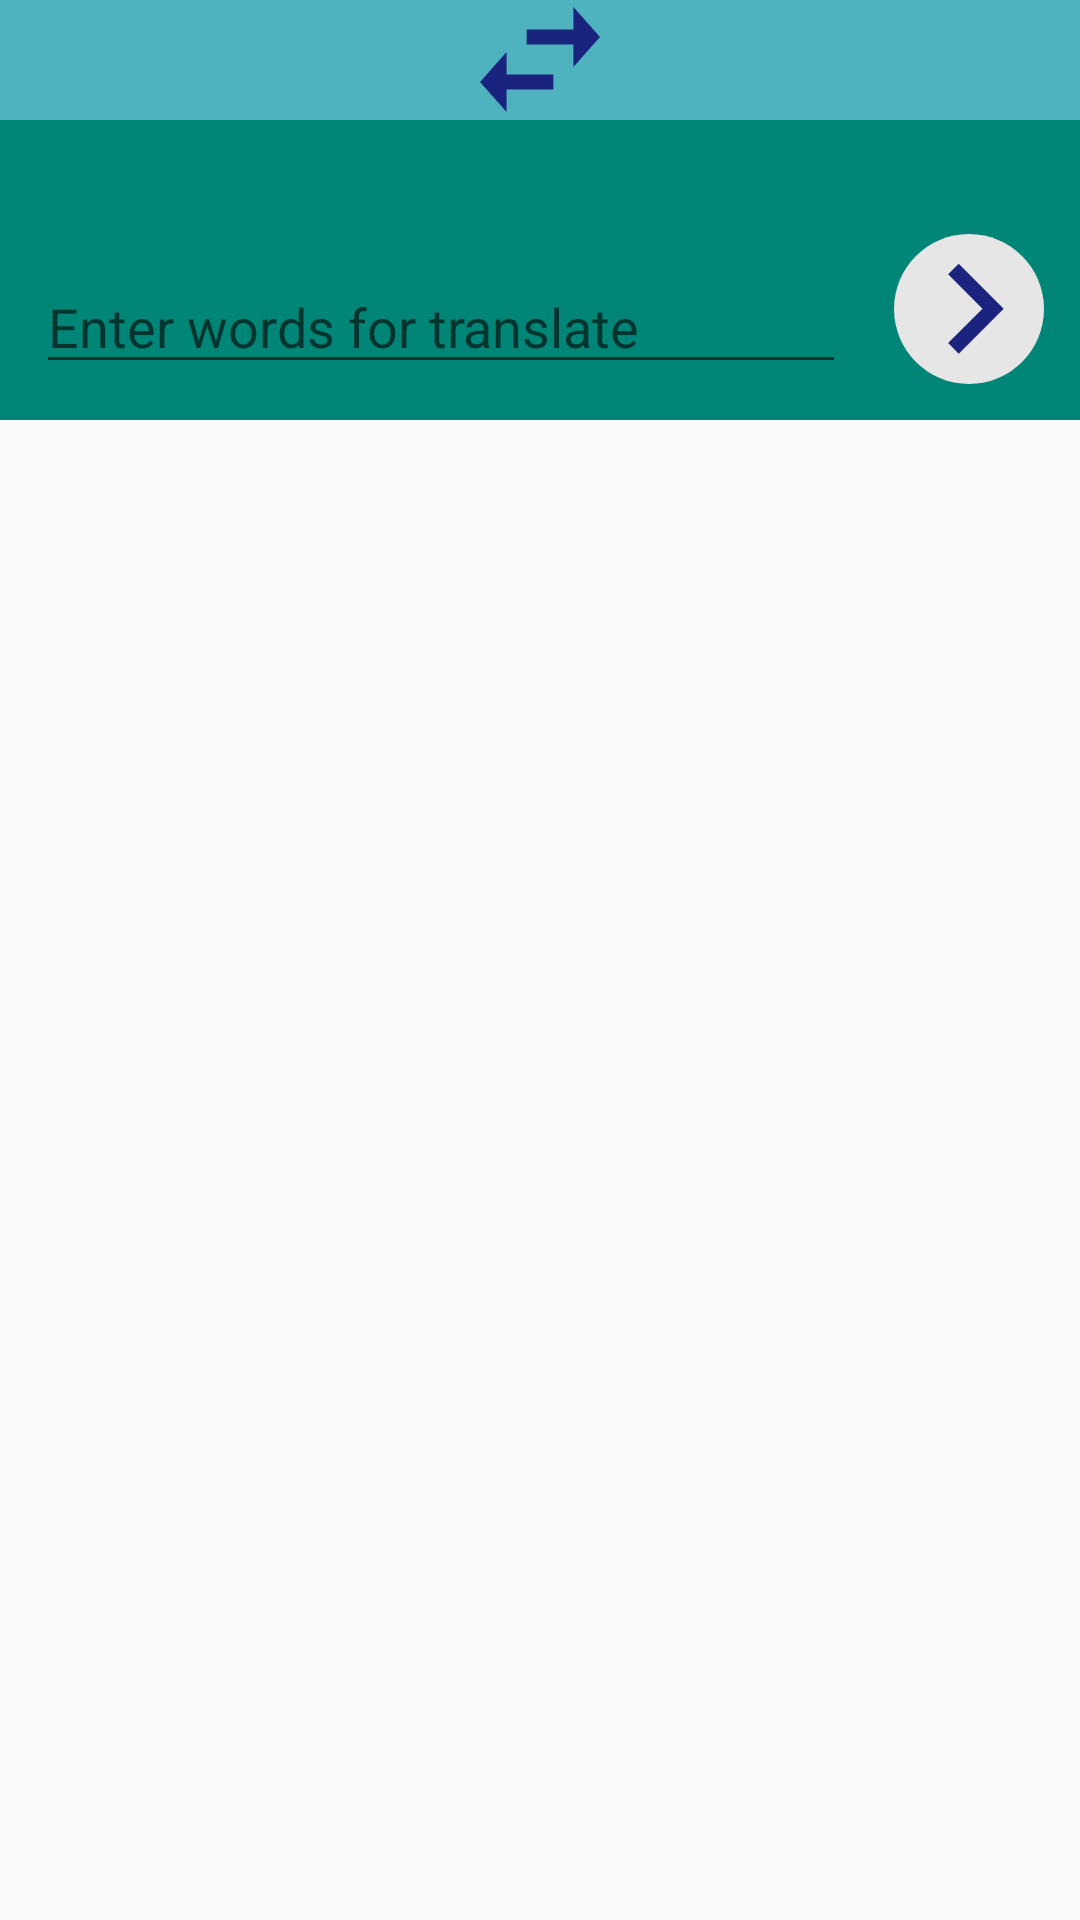

Screen size 1080 × 1920. Icon name, then its box in pixels as (x1, y1, x2, y2):
direction: (480, 7, 600, 112)
go translate: (894, 234, 1044, 384)
